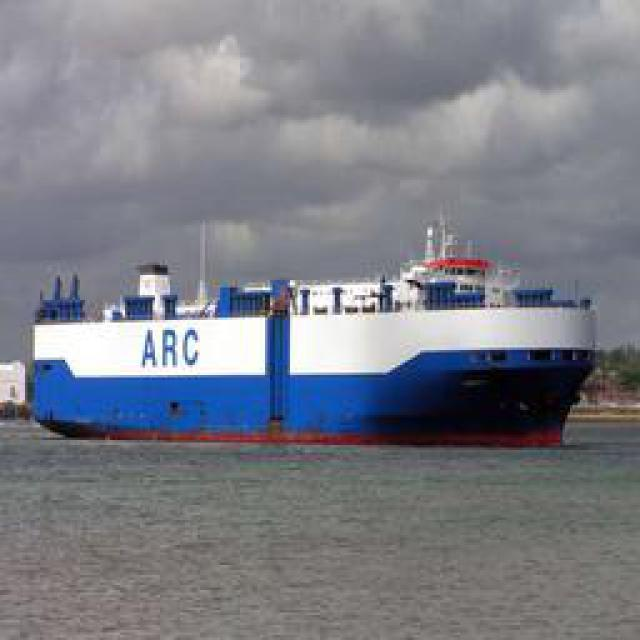Ship: (26, 205, 589, 443)
